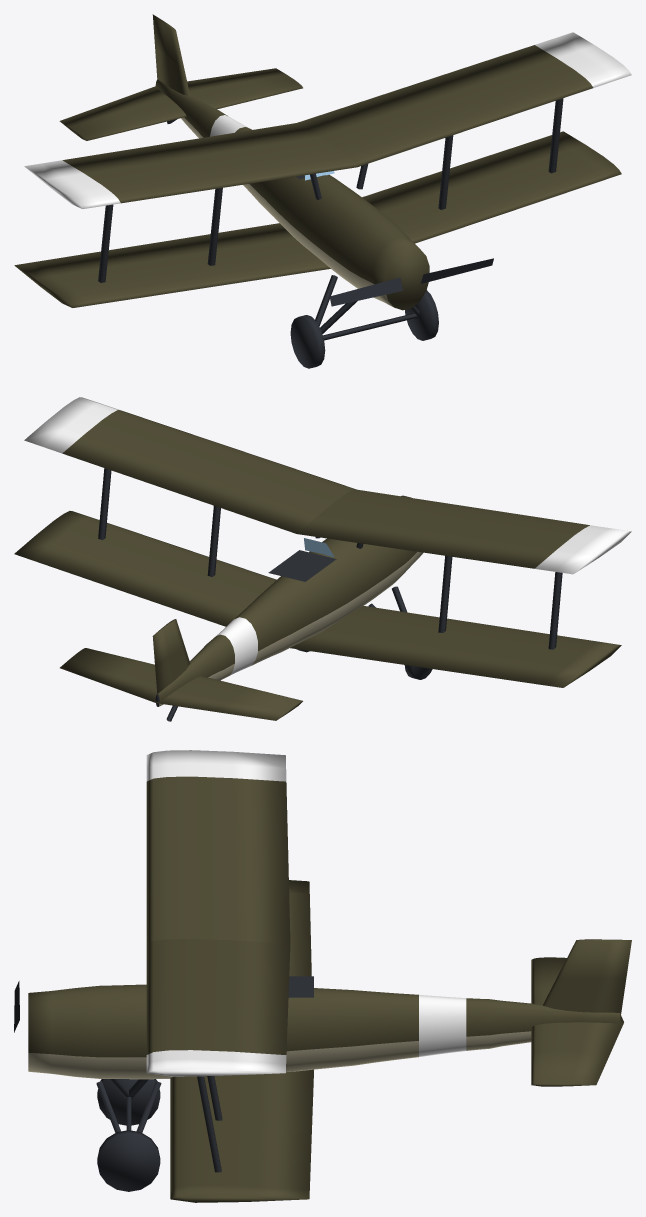
3 renders of one model, top to bottom at view 1: azimuth 30°, elevation 25°; view 2: azimuth 150°, elevation 25°; view 3: azimuth 270°, elevation 25°, orthographic. The views are drawn at different scales.
Visible parts, largest first — view 1: body, prop; view 2: body; view 3: body.
Boxes of the visible parts, left/top/right/bottom form: body: left=14, top=14, right=631, bottom=368; prop: left=329, top=258, right=493, bottom=306; body: left=14, top=397, right=631, bottom=721; body: left=28, top=750, right=631, bottom=1202.
Bounding box in the file's own units: 8.11 × 2.94 × 6.66.
